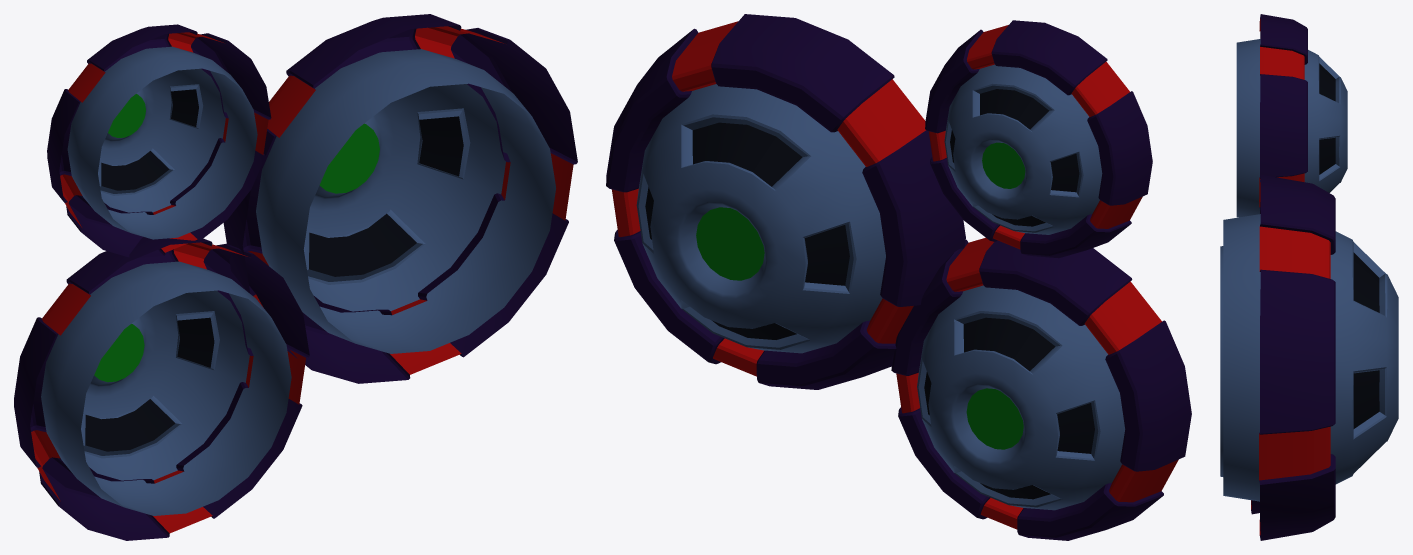
The model's file is OBJ_Camera.fbx.
3 views of the same model, side by side, from view 1: azimuth 30°, elevation 25°; view 2: azimuth 150°, elevation 25°; view 3: azimuth 270°, elevation 25° (orthographic). The views are drawn at different scales.
Visible parts, largest first — view 1: Sphere002, Sphere006, Sphere004, Sphere001, Sphere005, Sphere003; view 2: Sphere002, Sphere001, Sphere006, Sphere005, Sphere003, Sphere004; view 3: Sphere001, Sphere002, Sphere004, Sphere003, Sphere006.
Part boxes in pixels (x1,y1,x2,y2): Sphere002: [256, 49, 555, 353]; Sphere006: [41, 261, 291, 515]; Sphere004: [67, 46, 257, 239]; Sphere001: [223, 14, 577, 383]; Sphere005: [14, 237, 309, 540]; Sphere003: [47, 24, 271, 257]; Sphere002: [636, 84, 885, 353]; Sphere001: [606, 14, 965, 389]; Sphere006: [917, 285, 1125, 510]; Sphere005: [891, 237, 1191, 540]; Sphere003: [925, 20, 1152, 258]; Sphere004: [944, 64, 1102, 234]; Sphere001: [1259, 175, 1335, 540]; Sphere002: [1223, 214, 1398, 501]; Sphere004: [1236, 39, 1347, 217]; Sphere003: [1259, 14, 1307, 213]; Sphere006: [1220, 246, 1223, 476].
Size of the model in its own units: 108 by 93.6 by 31.68.
